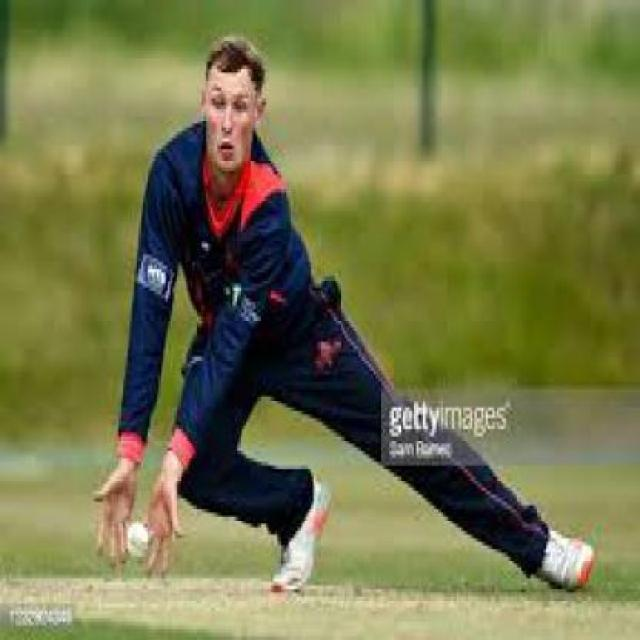ball: (100, 502, 172, 586)
